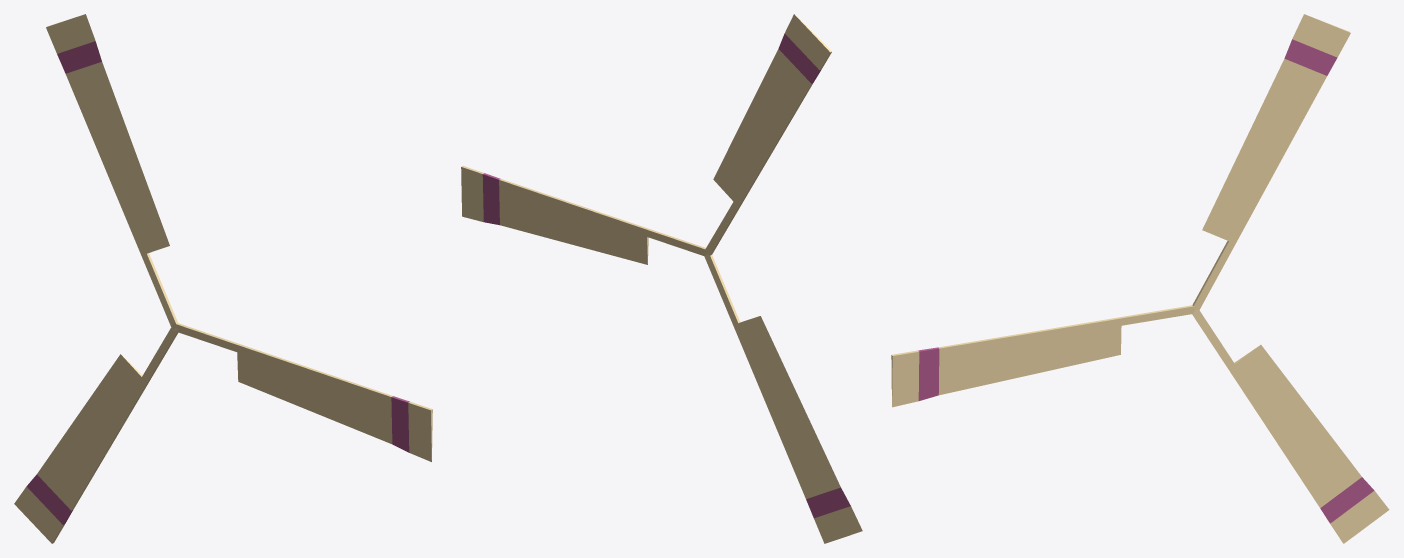
Rendered from Fan.fbx.
The picture shows the model from 3 angles, left to right: view 1: azimuth 30°, elevation 25°; view 2: azimuth 210°, elevation 25°; view 3: azimuth 270°, elevation 25°; orthographic projection. The views are drawn at different scales.
Parts seen in each view (by area): view 1: Fan; view 2: Fan; view 3: Fan.
Part boxes in pixels (box(x1,y1,x2,y2)): Fan: box(14, 14, 432, 543); Fan: box(461, 14, 862, 543); Fan: box(891, 14, 1389, 543).
Size of the model in its own units: 117 by 361 by 304.
